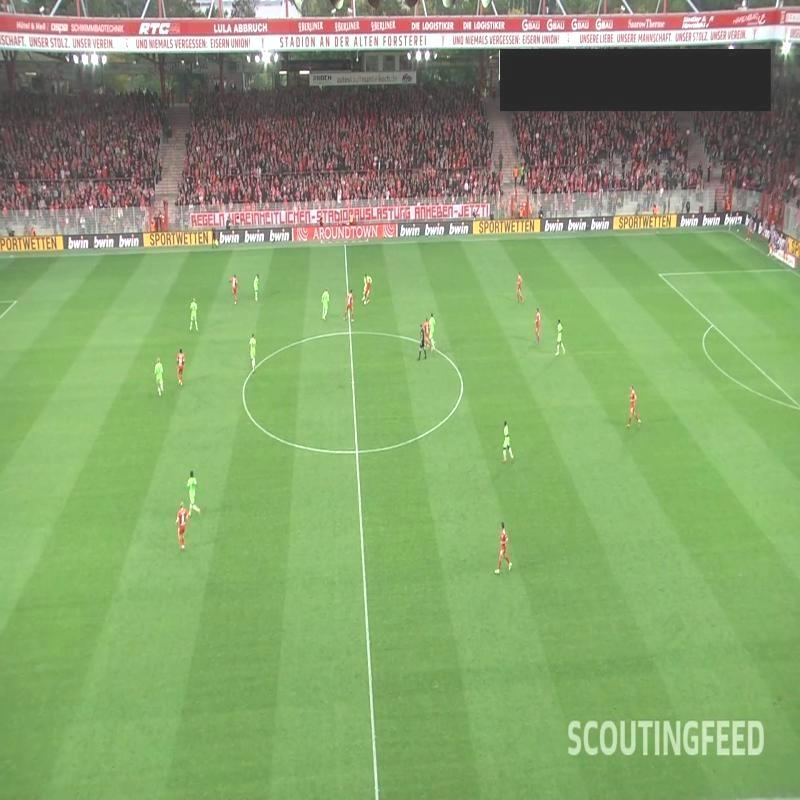1: (722, 224, 736, 238)
10: (707, 319, 721, 333)
13: (338, 237, 352, 250)
14: (344, 327, 358, 341)
15: (350, 446, 364, 460)
16: (416, 3, 431, 18)
2: (786, 263, 800, 277)
9: (7, 292, 25, 310), (653, 266, 667, 280)
c: (453, 374, 472, 391), (236, 387, 250, 401)
